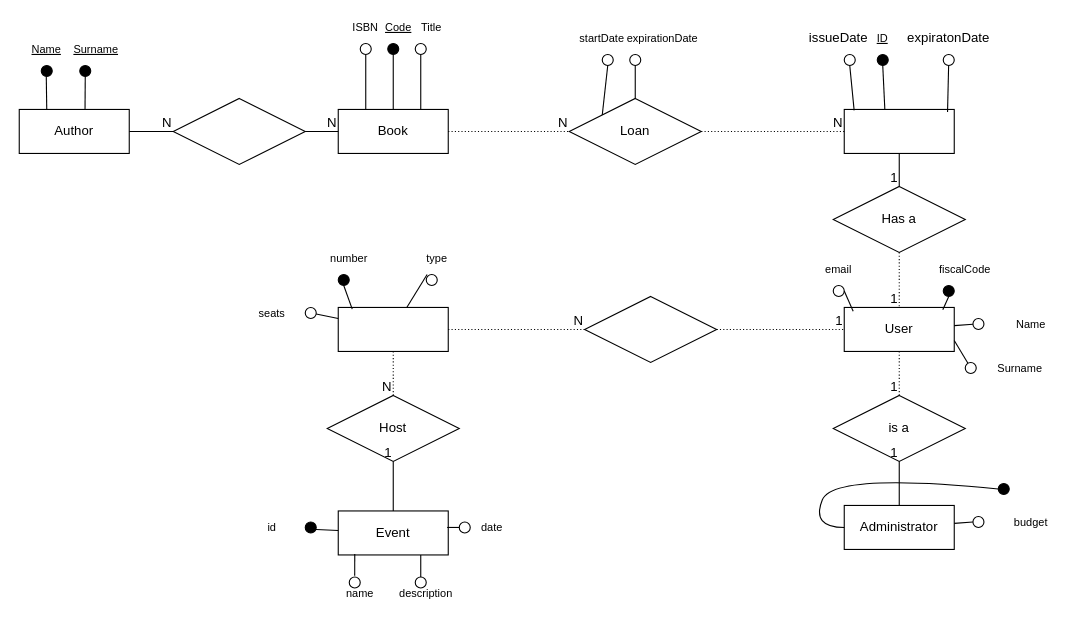
Some shapes in this 1084 by 628 pixel diagram are drawn without their labels. The shapes that lost their labels are listed below. From the top down, each one's box as (x1, y1, x2, y2) in pixels, then its label:
(172, 97, 305, 164): Written by
(843, 108, 954, 153): Card
(337, 306, 448, 351): Room
(584, 295, 717, 362): Reserve
